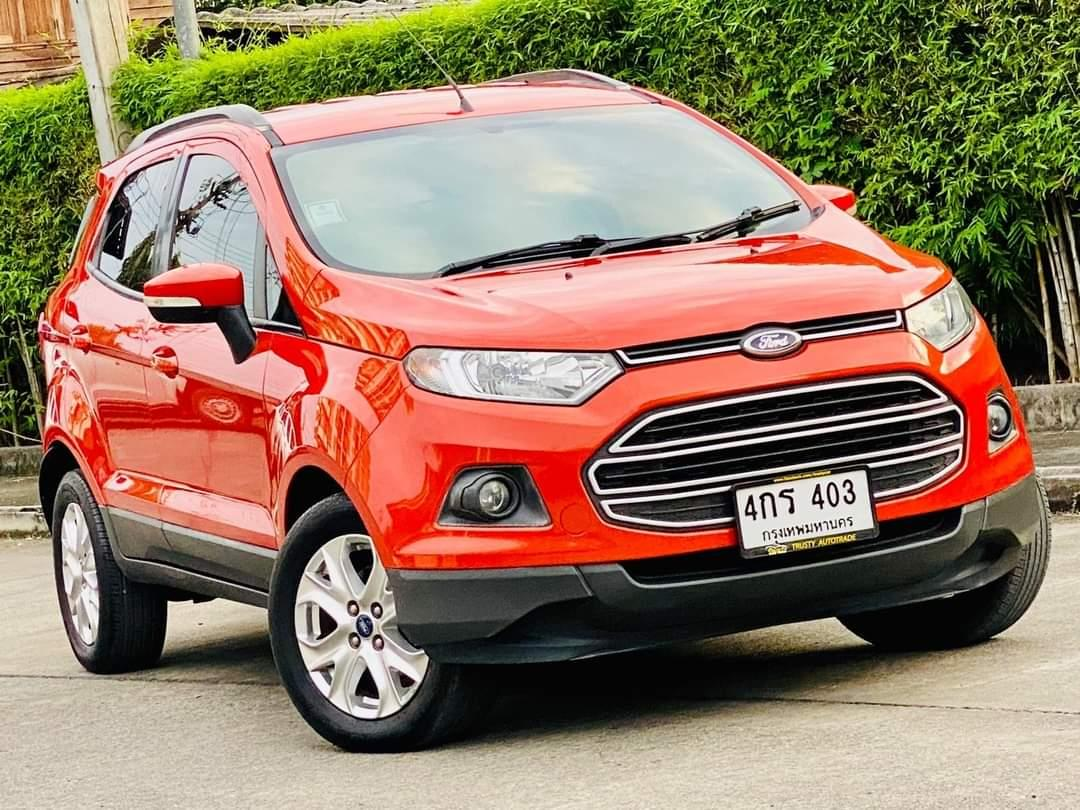license-plate: (724, 460, 885, 567)
